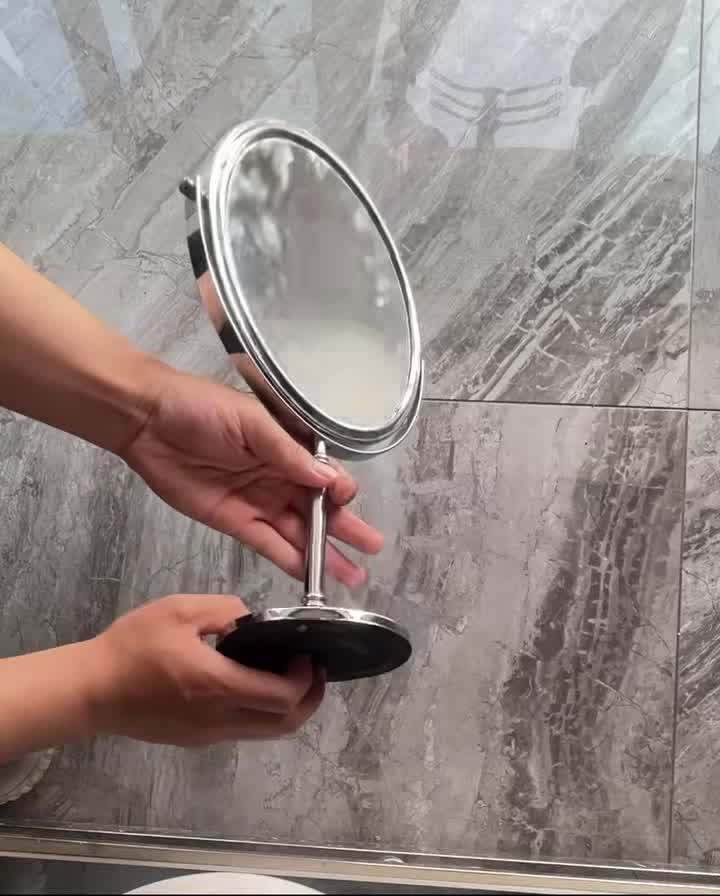base: (218, 587, 431, 695)
frame: (276, 404, 376, 600)
mirror: (185, 129, 474, 458)
screw: (167, 164, 212, 205)
